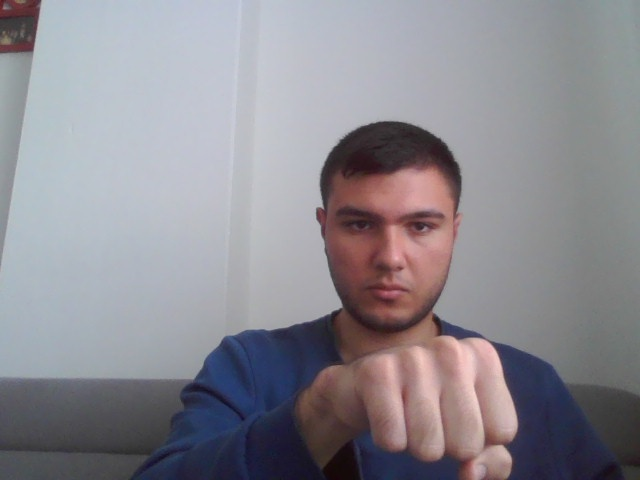yes: (349, 336, 522, 480)
